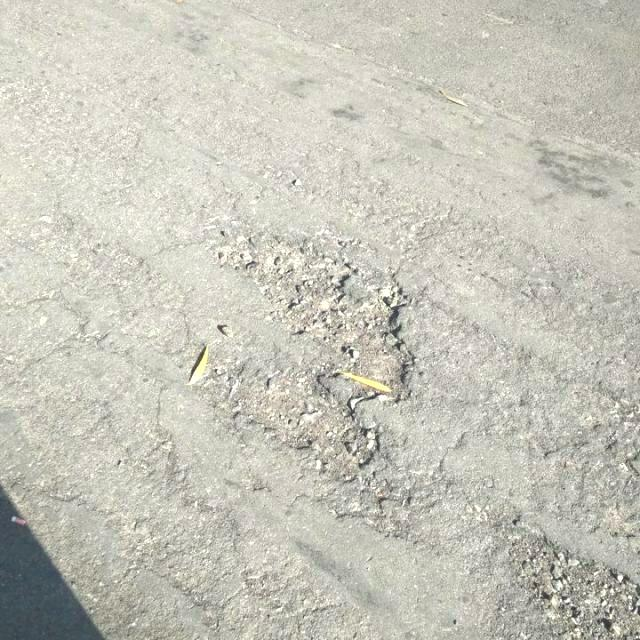Pothole: (193, 232, 424, 474), (501, 528, 640, 638)
